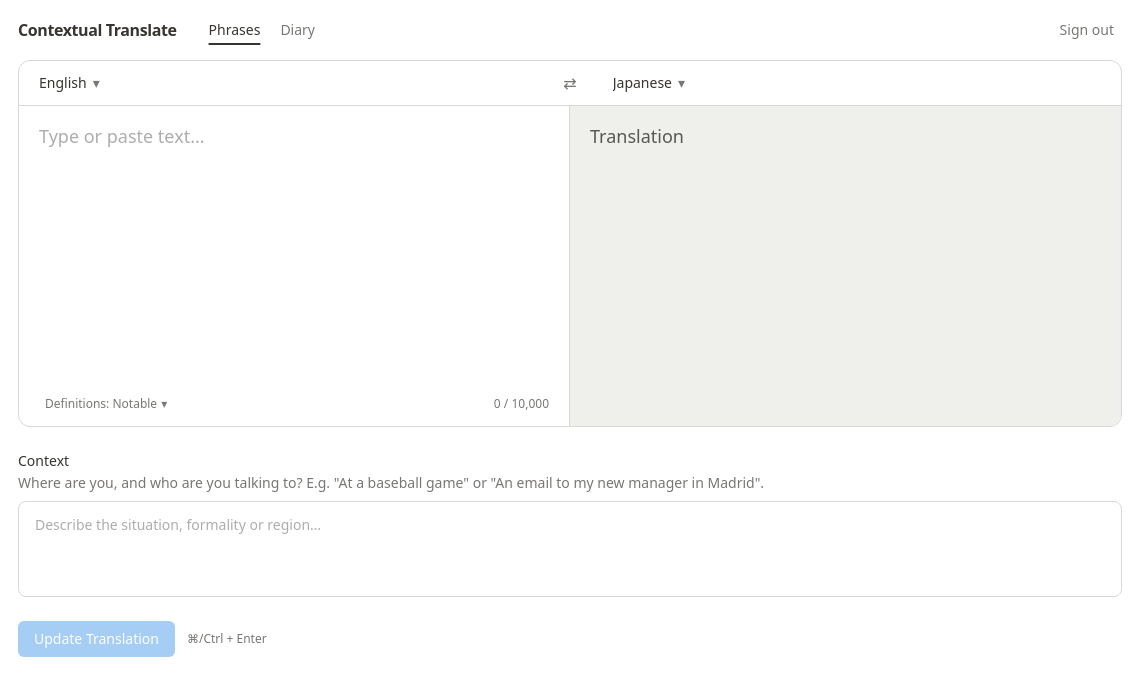
Test: TranslatePage › translates with context and shows Claude's note
Expected: the button "Sign out" is shown, [1052,16,1122,44]
In the text box named "Text to translate": point(294, 250) [19,106,569,394], type "Is this a bat?"
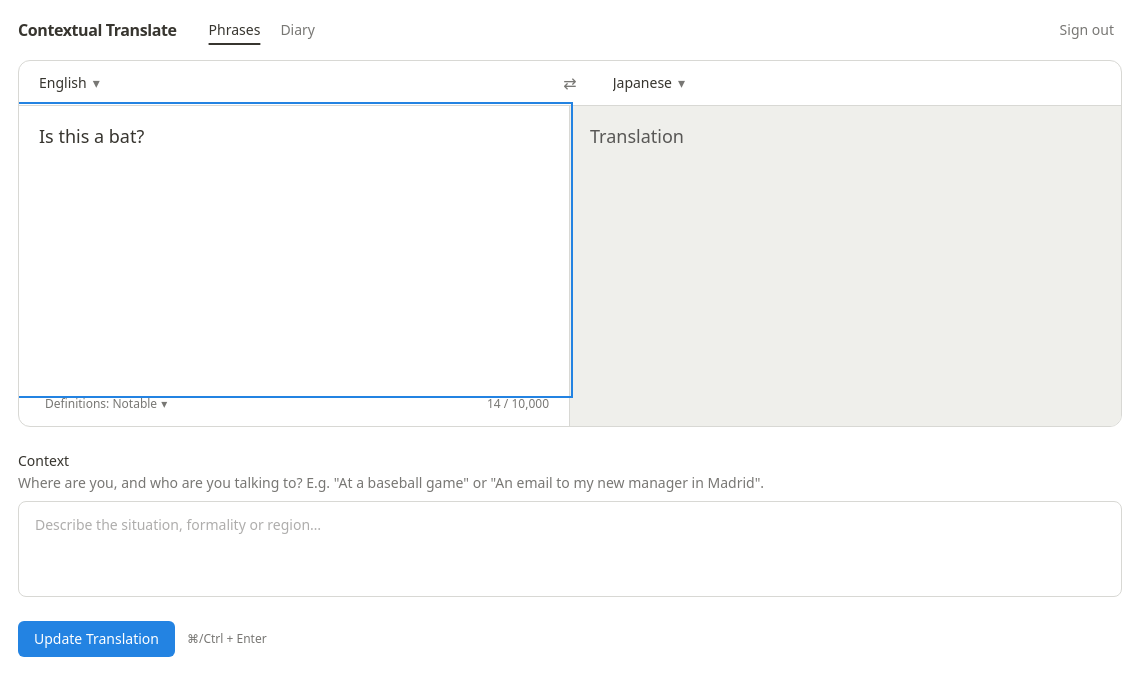
In the text box labelled "Context": point(570, 549) [18,501,1122,597], type "At a baseball game"
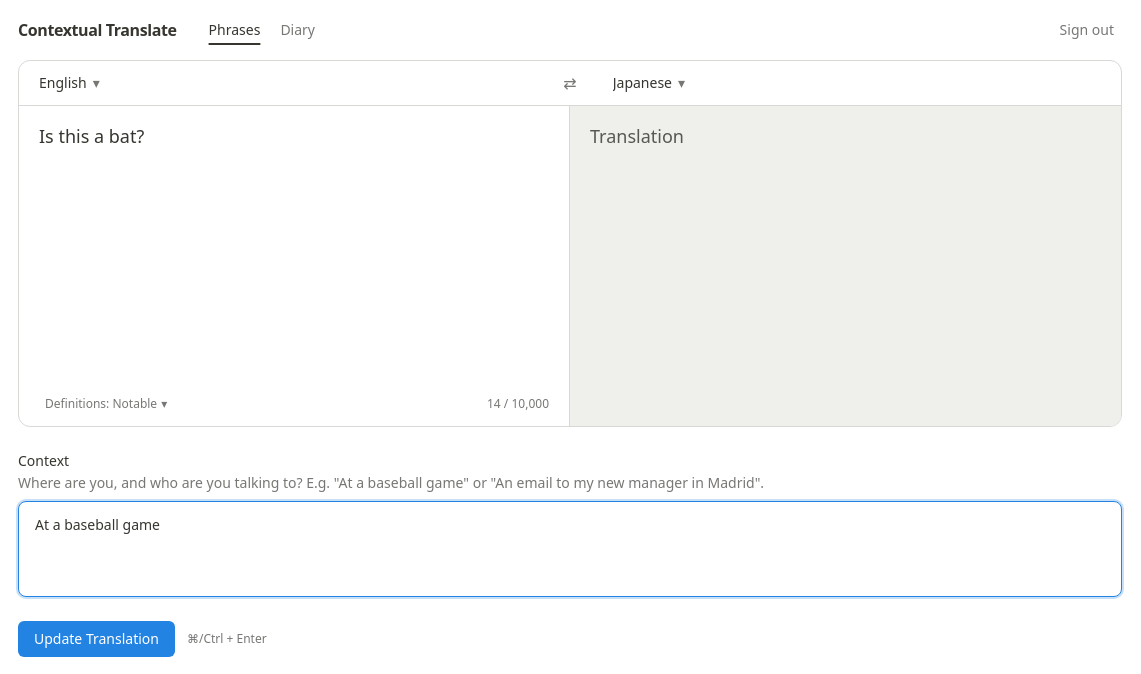
Click the button "Update Translation": point(96, 639) [18,621,175,657]
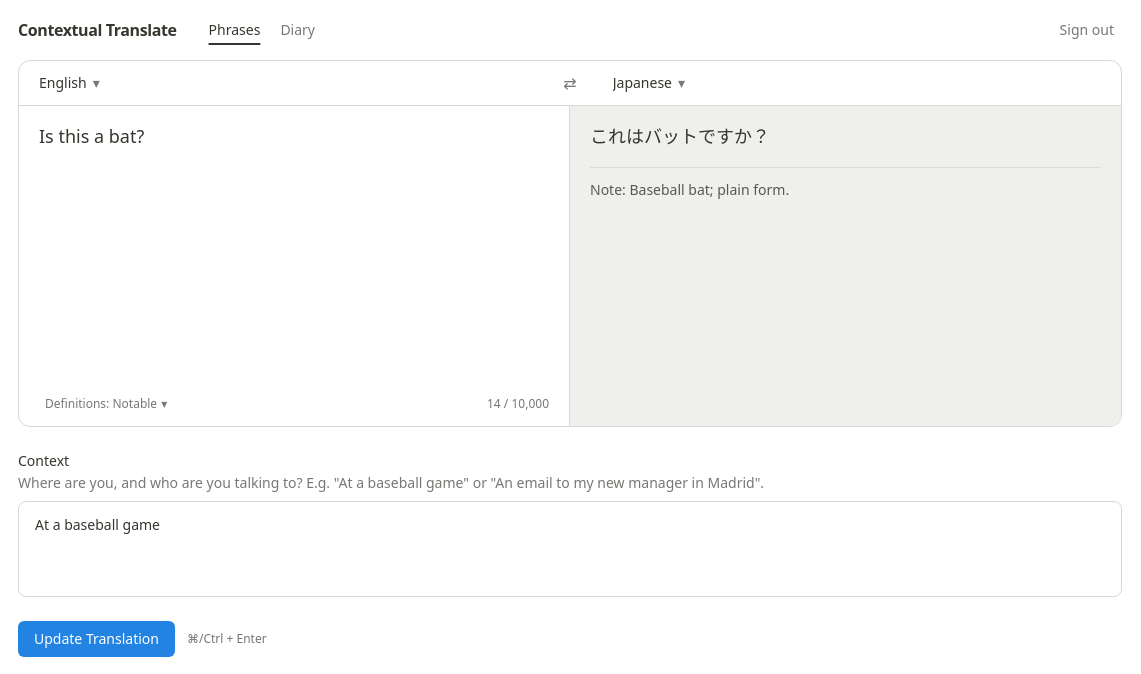
Result: the text "これはバットですか？" is shown at [590,124,770,148]
Result: the text "Baseball bat; plain form." is shown at [630,180,789,199]
